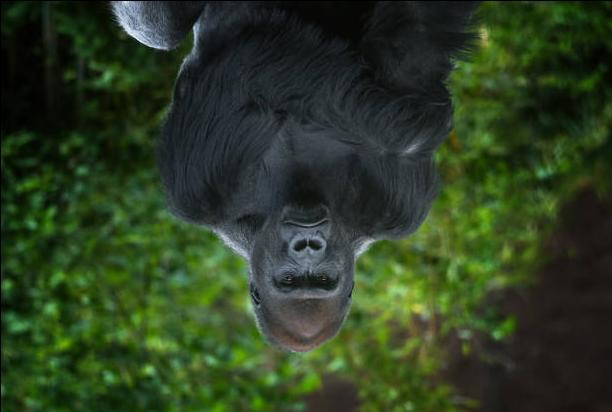gorille_Autres: (94, 1, 496, 383)
